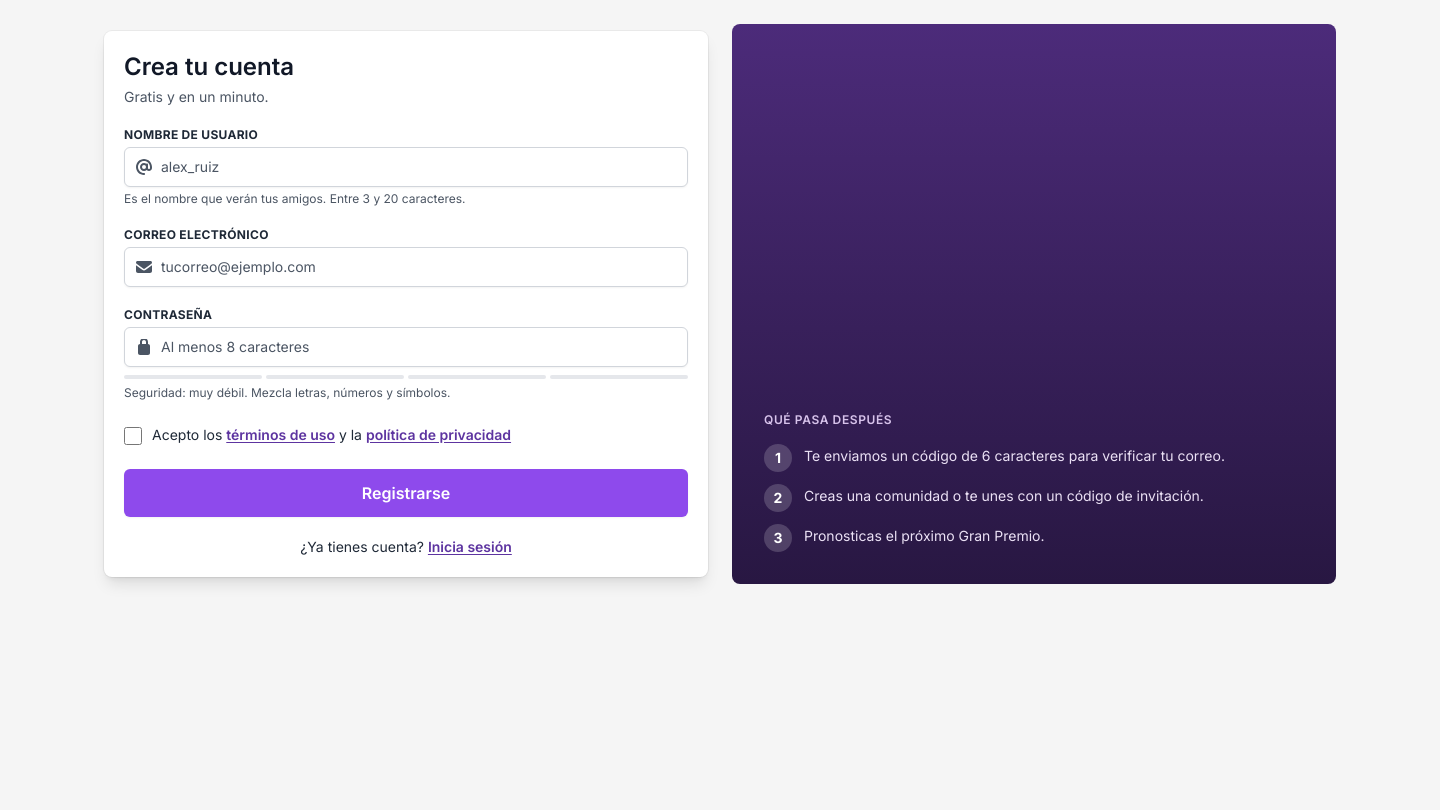
Test: registro page › does not submit an invalid form, shows errors and focuses the first one
This screenshot has width=1440, height=810.
Click the button "Registrarse" at [406, 493], box [124,469,688,517]
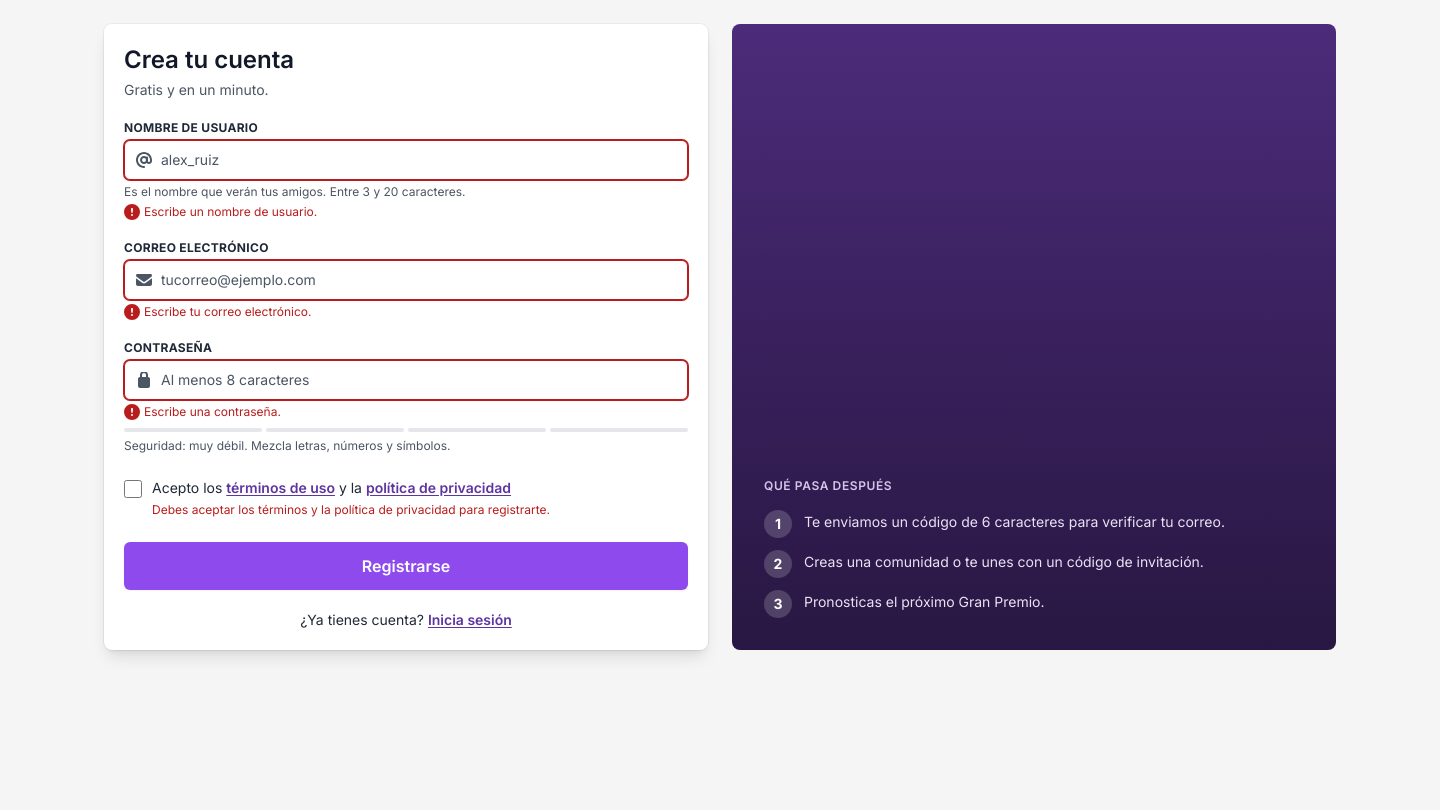
Expected: the text "Escribe un nombre de usuario." is shown, [144,204,317,220]
Expected: the text "Debes aceptar los términos y la política de privacidad para registrarte." is shown, [152,502,550,518]
